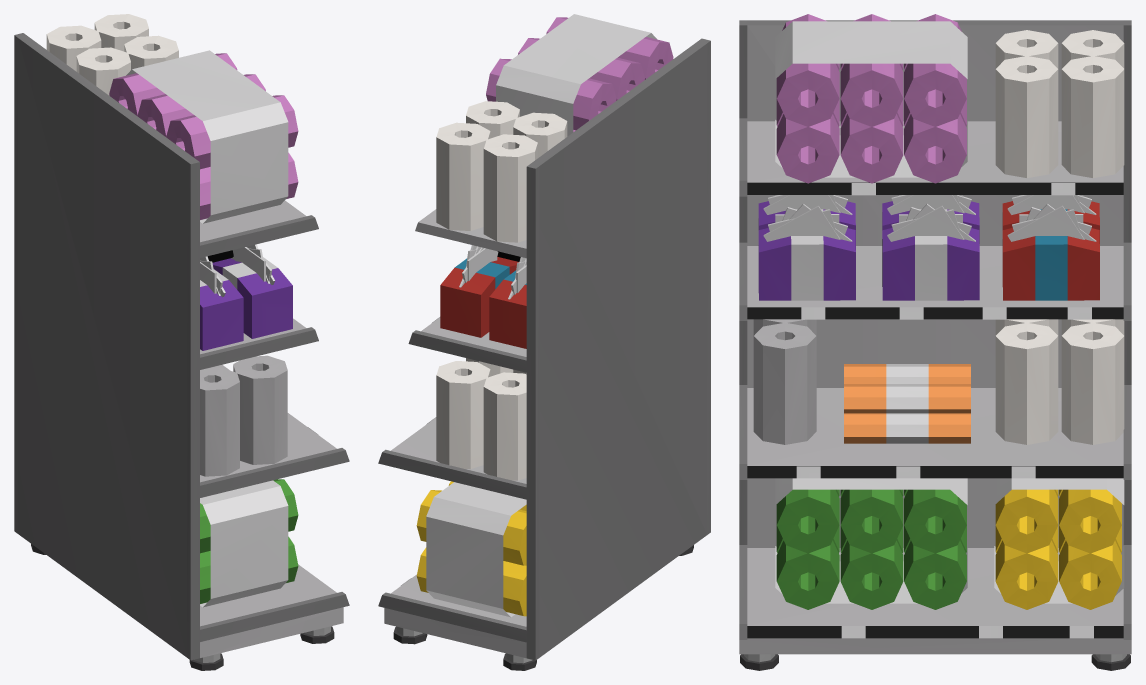
File: SM_shopShelve_02.glb
3 views of the same model, side by side, from view 1: azimuth 30°, elevation 25°; view 2: azimuth 150°, elevation 25°; view 3: azimuth 270°, elevation 25° (orthographic). The views are drawn at different scales.
Parts seen in each view (by area): view 1: SM_shopShelve_02; view 2: SM_shopShelve_02; view 3: SM_shopShelve_02.
Part boxes in pixels (x1,y1,x2,y2): SM_shopShelve_02: (14,14,349,670); SM_shopShelve_02: (378,14,710,670); SM_shopShelve_02: (739,14,1131,670).
Size of the model in its own units: 0.52 by 1.65 by 1.
Materials: 1 (1 with a texture image).
